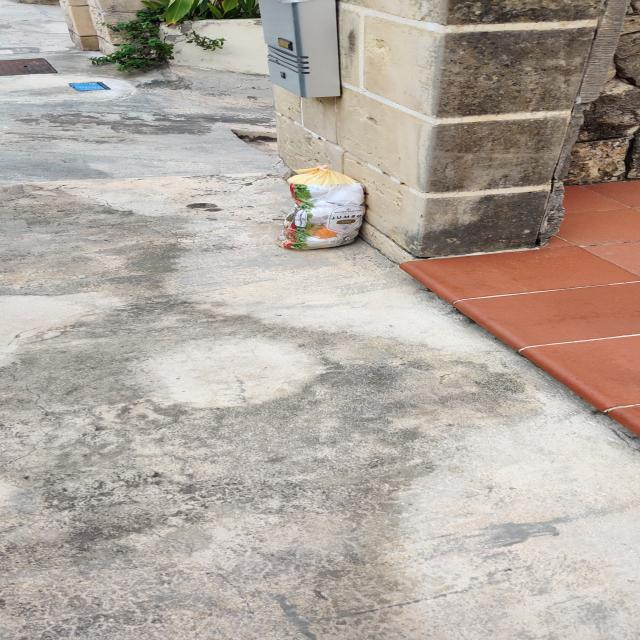Organic Waste -White Bags-: (273, 182, 361, 251)
